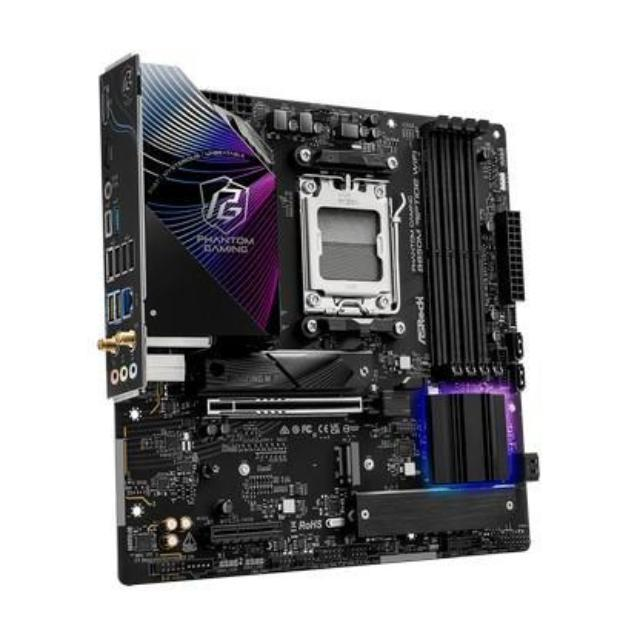Mainboard: (75, 45, 542, 592)
